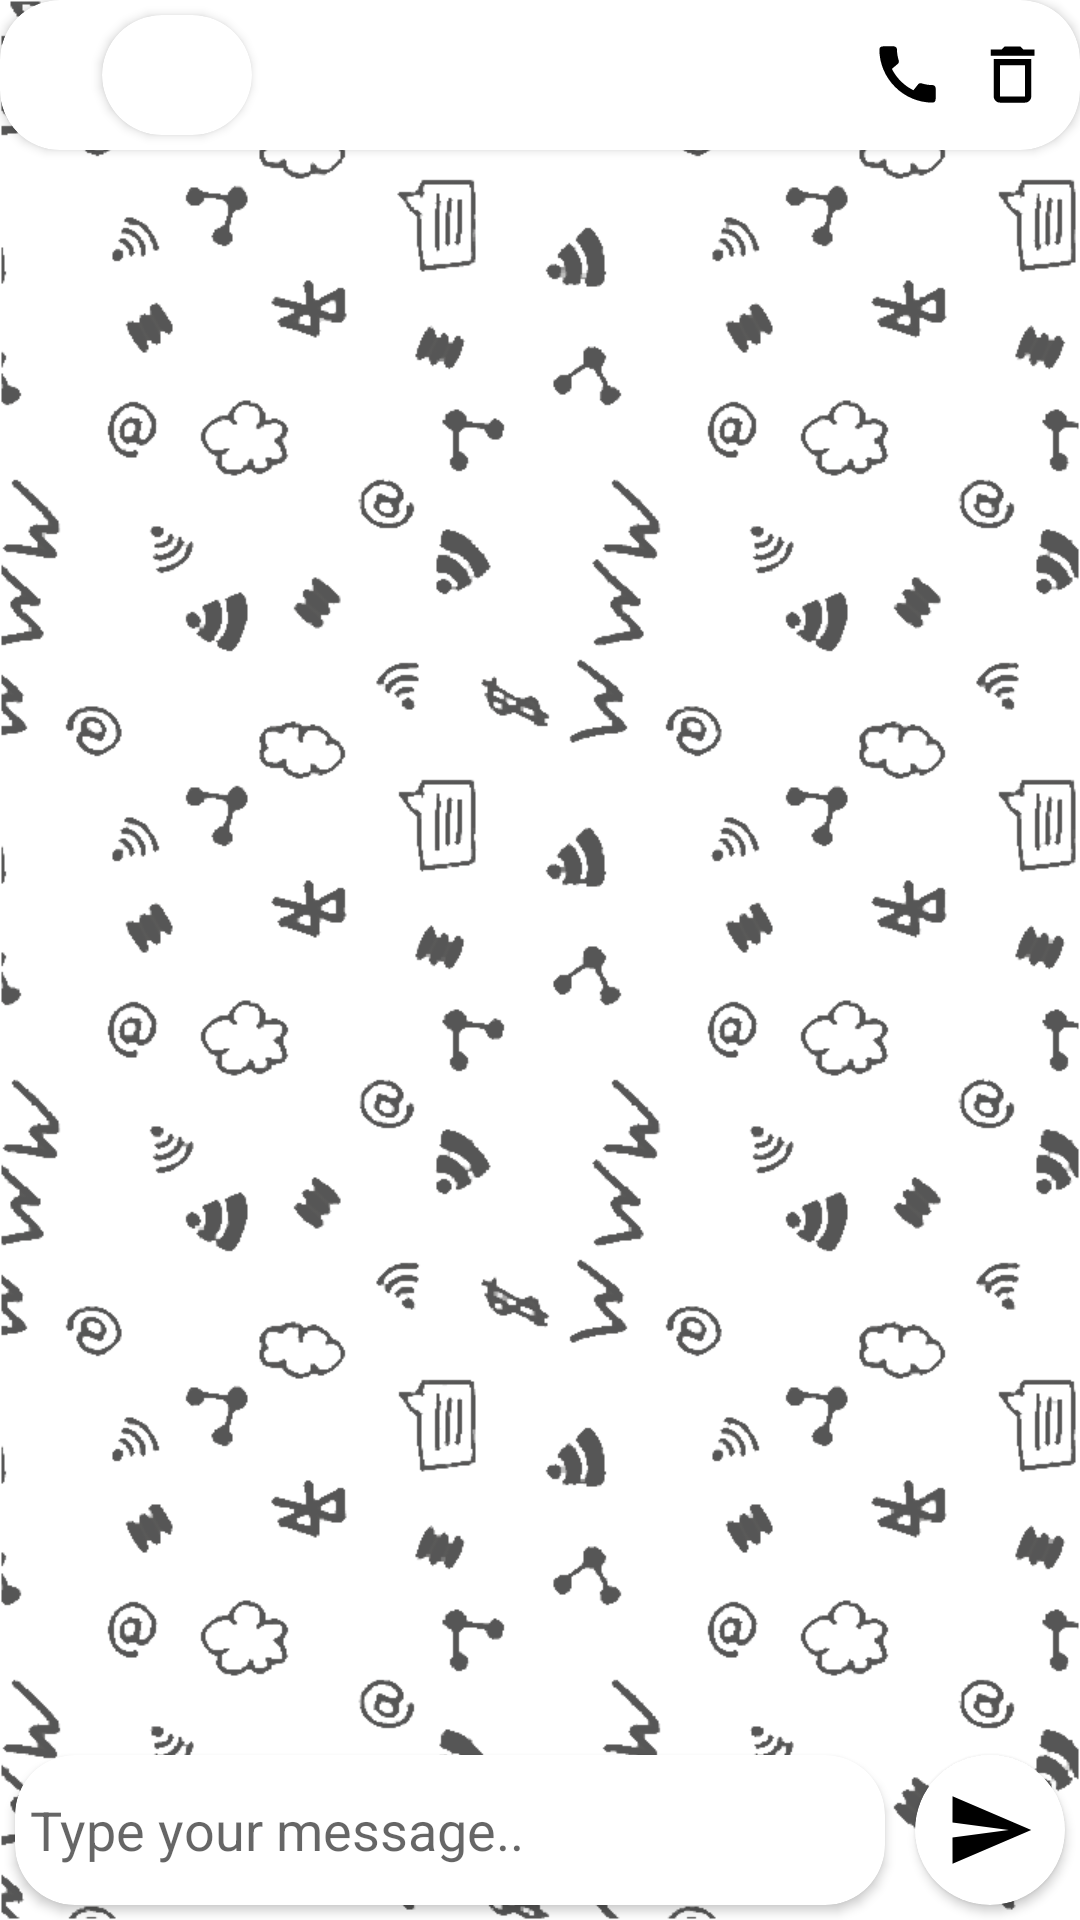

Icon bounding boxes for this 1080w x 1920h phone screenshot, format (x1, y1, x2, y2):
call: (879, 46, 936, 103)
delete: (990, 46, 1035, 103)
send: (952, 1796, 1031, 1864)
